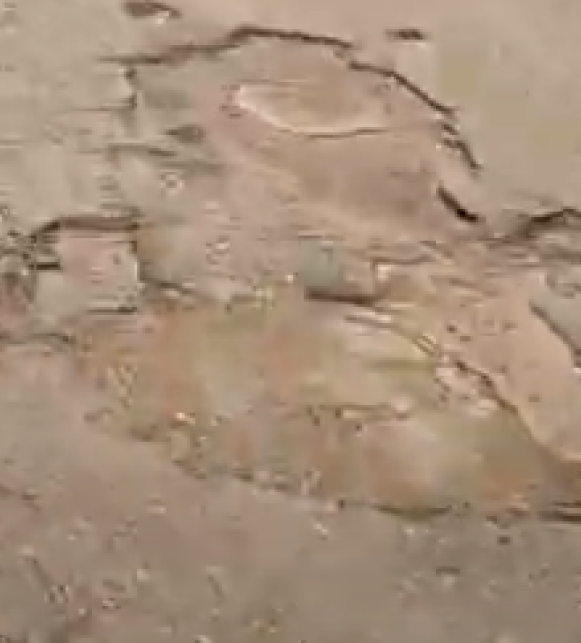Berlubang: (73, 14, 491, 226), (272, 208, 581, 480), (6, 211, 197, 340)
